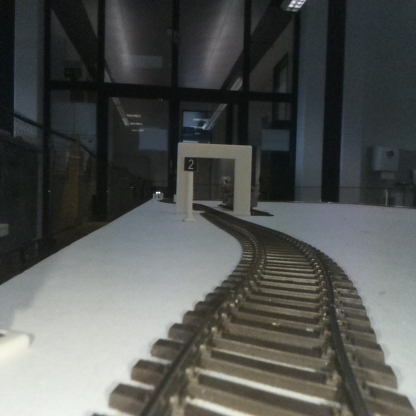black-info-2: (184, 157, 197, 221)
